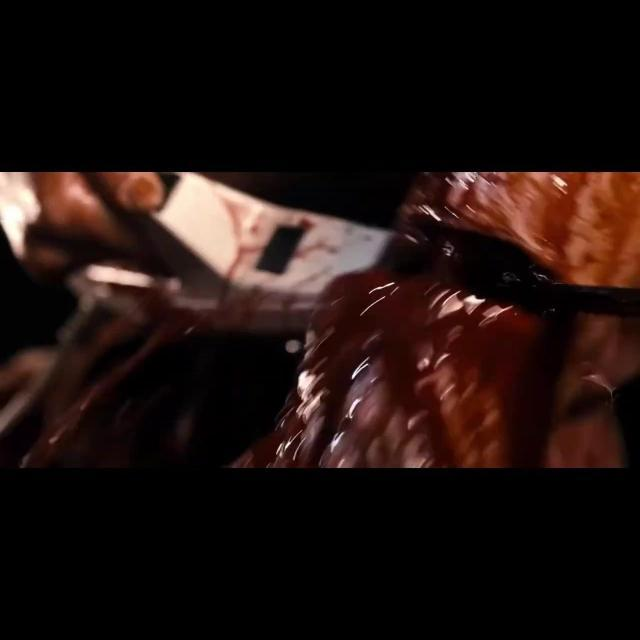blood: (0, 171, 640, 469)
